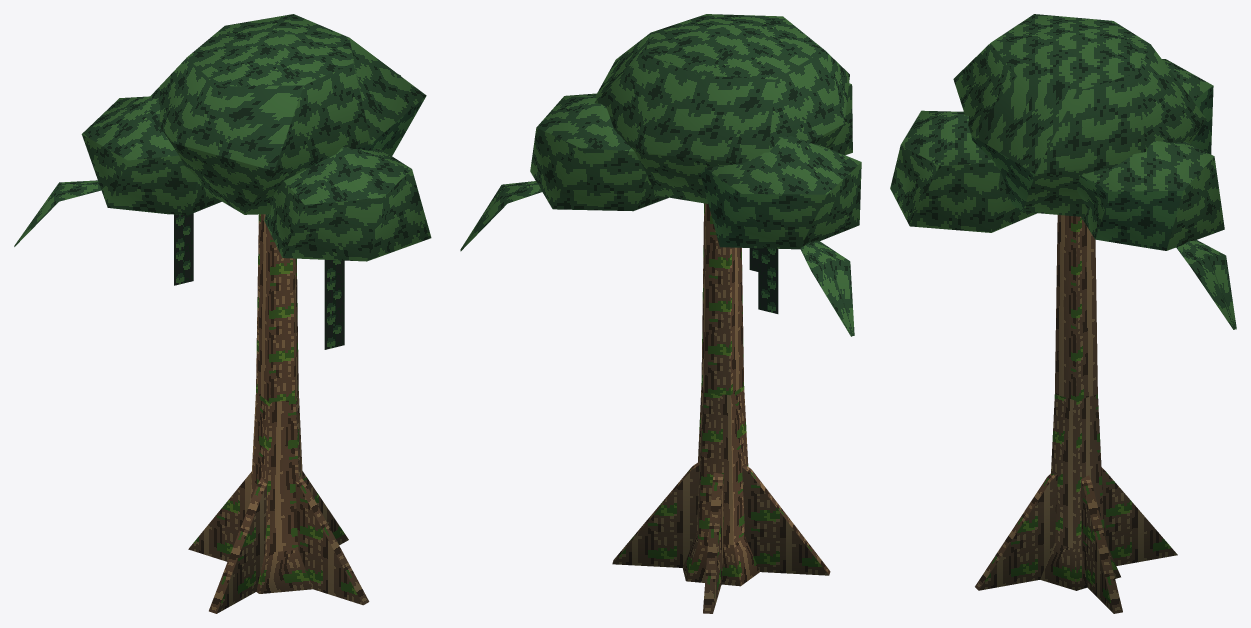
File: wild.tree.glb
The picture shows the model from 3 angles, left to right: view 1: azimuth 30°, elevation 25°; view 2: azimuth 150°, elevation 25°; view 3: azimuth 270°, elevation 25°; orthographic projection.
Parts seen in each view (by area): view 1: kit_canopy, kit_trunk, kit_buttresses, kit_shell_vines, kit_shell_rim_leaves; view 2: kit_canopy, kit_trunk, kit_buttresses, kit_shell_rim_leaves, kit_shell_vines; view 3: kit_canopy, kit_trunk, kit_buttresses, kit_shell_rim_leaves.
Boxes of the visible parts, x1,y1,x2,y2 form: kit_canopy: [81, 14, 431, 261]; kit_trunk: [250, 214, 312, 593]; kit_buttresses: [188, 471, 369, 613]; kit_shell_vines: [174, 213, 344, 349]; kit_shell_rim_leaves: [14, 180, 101, 246]; kit_canopy: [530, 14, 861, 249]; kit_trunk: [682, 203, 759, 586]; kit_buttresses: [612, 462, 830, 613]; kit_shell_rim_leaves: [460, 181, 854, 336]; kit_shell_vines: [749, 248, 778, 313]; kit_canopy: [890, 14, 1224, 250]; kit_trunk: [1040, 215, 1120, 590]; kit_buttresses: [975, 467, 1177, 613]; kit_shell_rim_leaves: [1176, 240, 1236, 329].
Size of the model in its own units: 6.9 by 9.36 by 5.51.
Materials: 3 (3 with a texture image).
